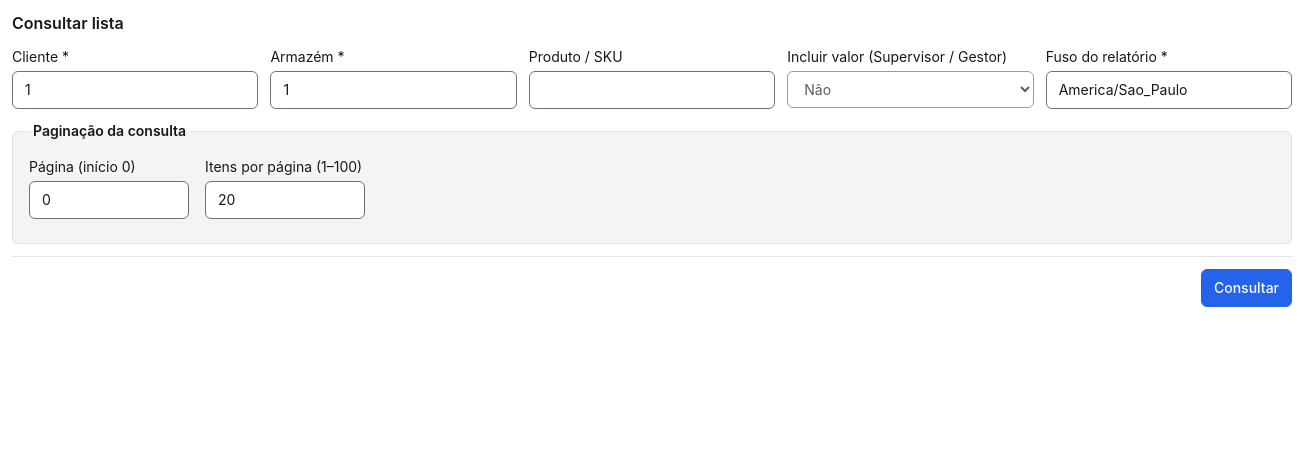
FE08 indicador exibe valor recebido null e Operação nunca pede valor=true
expect the dropdown labelled "Incluir valor (Supervisor / Gestor)" is disabled: met, box [787, 71, 1034, 108]
Click the button "Consultar": (1246, 288) [1201, 269, 1292, 307]
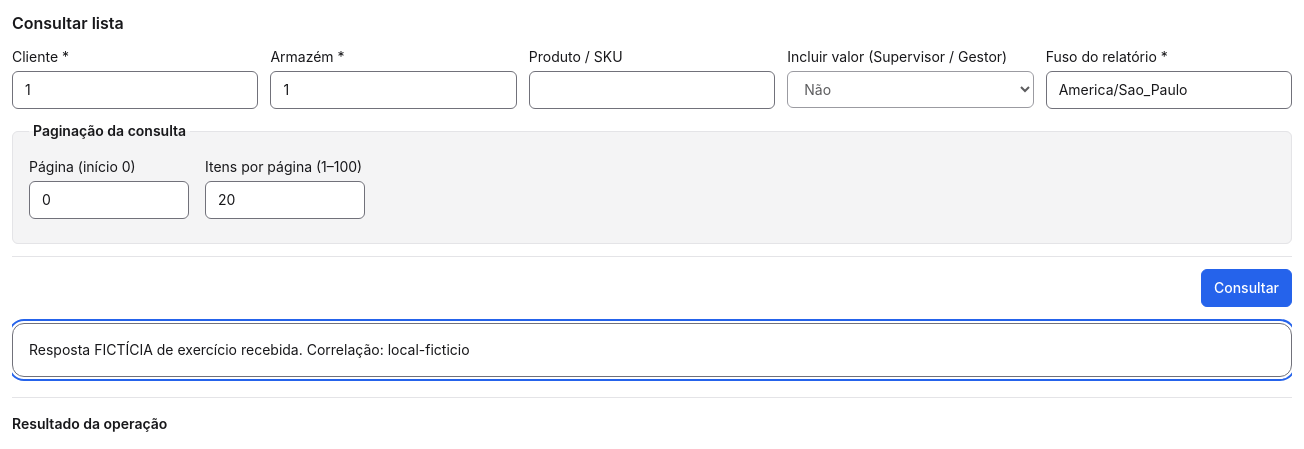
expect the text "Resposta FICTÍCIA de exercício recebida" is shown: met, box [29, 341, 303, 358]
